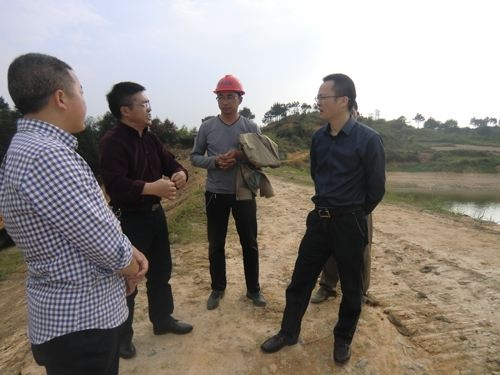none: (8, 50, 92, 139), (105, 79, 155, 133), (316, 72, 356, 123)
red: (212, 72, 247, 117)
